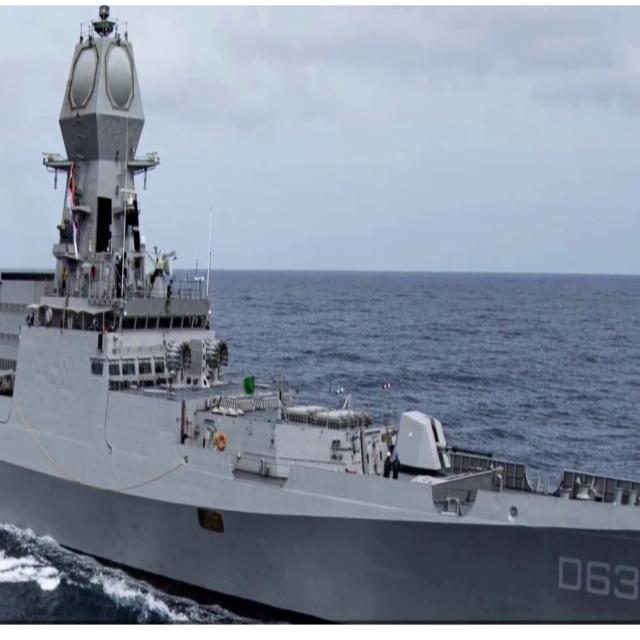OCR: (556, 551, 640, 606)
